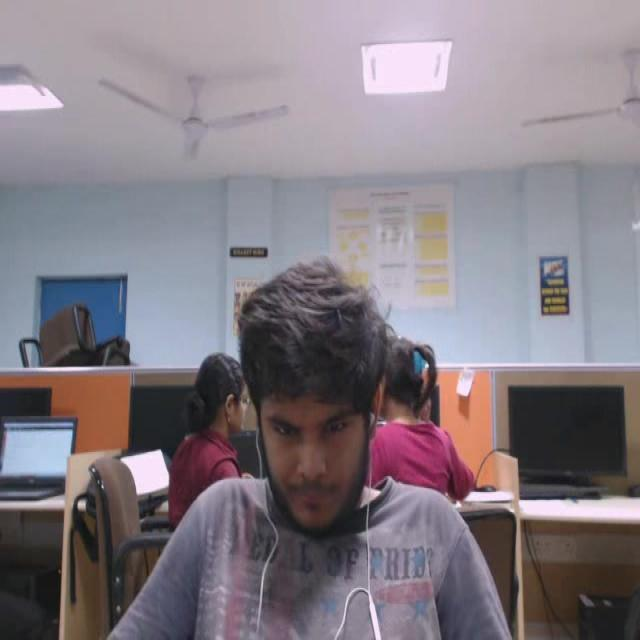Engaged: (217, 234, 433, 569)
